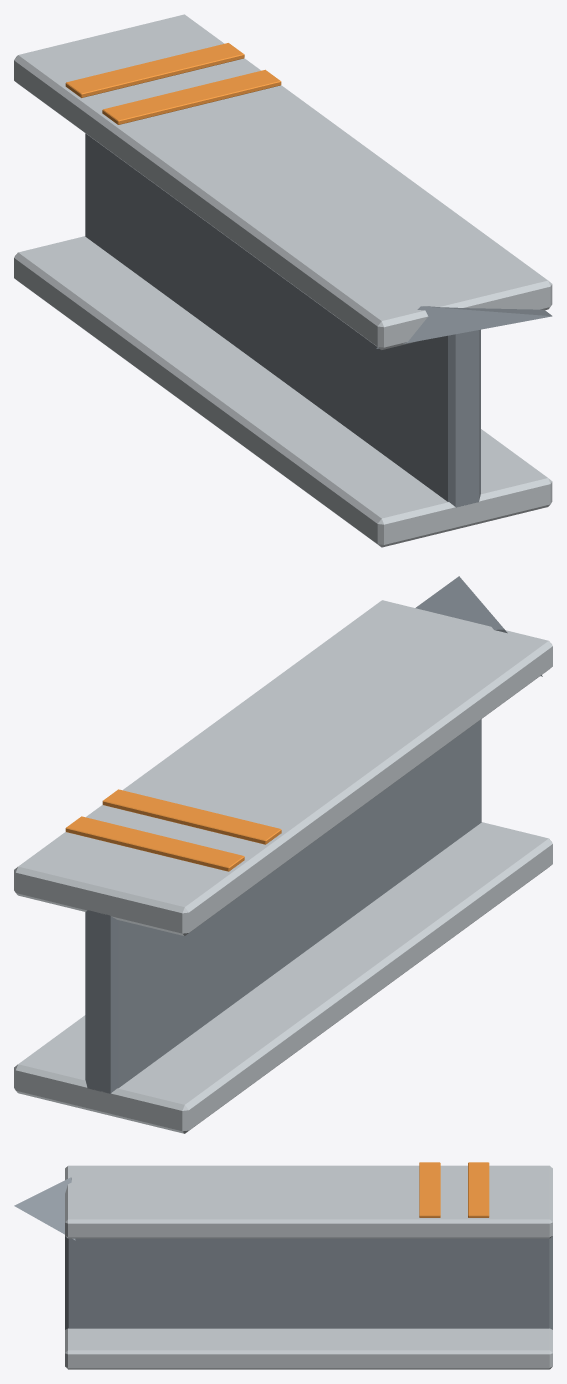
Rendered from 02_broken_beam.glb.
3 renders of one model, top to bottom at view 1: azimuth 30°, elevation 25°; view 2: azimuth 150°, elevation 25°; view 3: azimuth 270°, elevation 25°, orthographic. The views are drawn at different scales.
Parts seen in each view (by area): view 1: 02_broken_beam; view 2: 02_broken_beam; view 3: 02_broken_beam.
Boxes of the visible parts, x1=… form: 02_broken_beam: x1=14, y1=14, x2=552, y2=547; 02_broken_beam: x1=14, y1=576, x2=552, y2=1133; 02_broken_beam: x1=14, y1=1162, x2=552, y2=1369.
Size of the model in its own units: 0.63 by 0.8 by 2.54.
